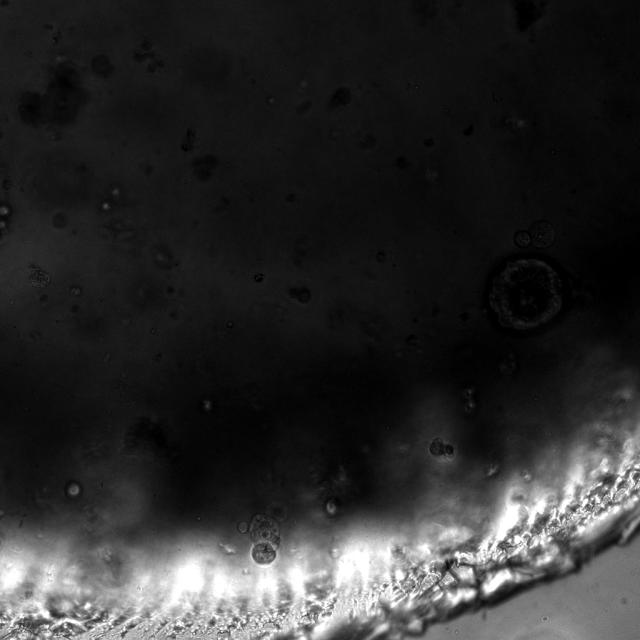organoid: (489, 258, 561, 330), (18, 60, 88, 127), (238, 503, 286, 564), (124, 416, 170, 452), (133, 40, 163, 72), (429, 437, 456, 457), (28, 264, 50, 288), (91, 54, 113, 78), (181, 128, 195, 152), (289, 288, 310, 303), (53, 212, 67, 228), (253, 272, 265, 283)
